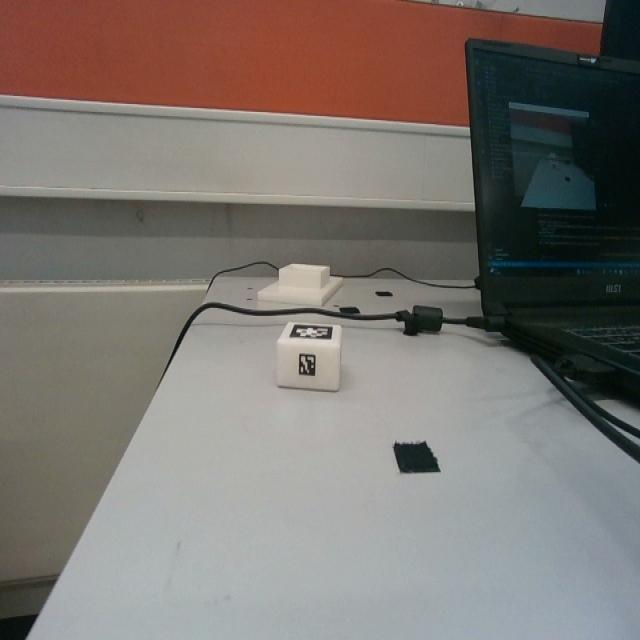Cube: (277, 319, 344, 392)
